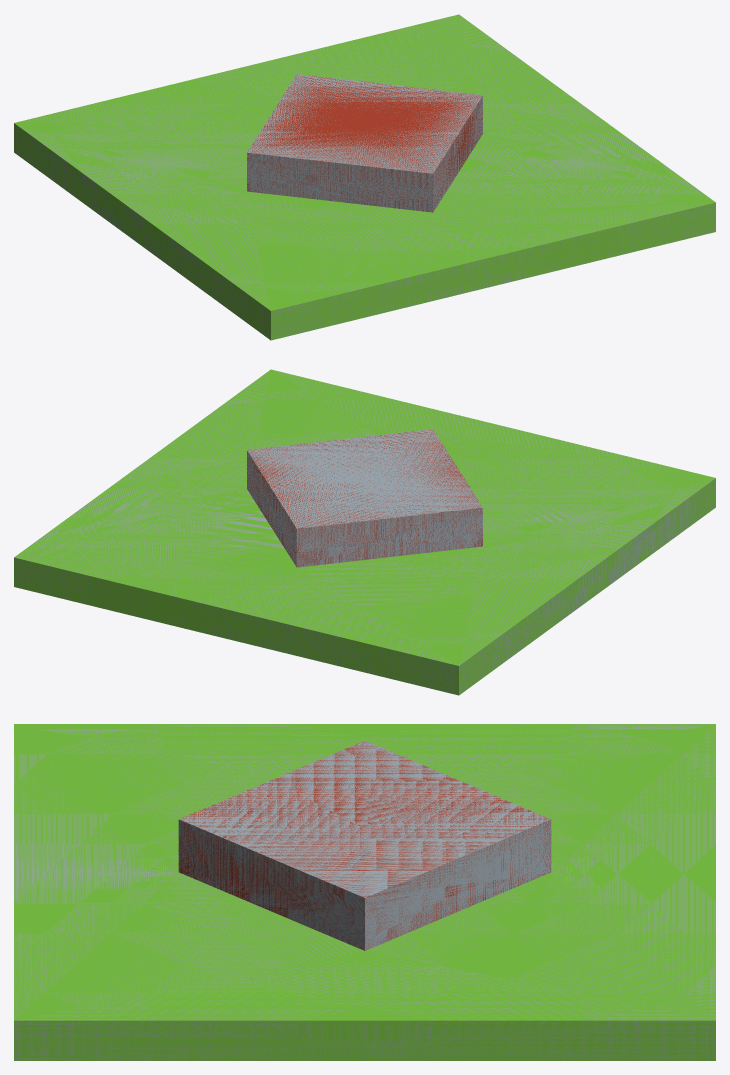
Rendered from Obstacle_diamond_01.obj.
3 renders of one model, top to bottom at view 1: azimuth 30°, elevation 25°; view 2: azimuth 150°, elevation 25°; view 3: azimuth 270°, elevation 25°, orthographic. The views are drawn at different scales.
Visible parts, largest first — view 1: Mesh1 Obstacle_diamond Model; view 2: Mesh1 Obstacle_diamond Model; view 3: Mesh1 Obstacle_diamond Model.
Boxes of the visible parts, box(x1,y1,x2,y2) form: Mesh1 Obstacle_diamond Model: box(14, 14, 715, 340); Mesh1 Obstacle_diamond Model: box(14, 369, 715, 695); Mesh1 Obstacle_diamond Model: box(14, 724, 715, 1060).
Bounding box in the file's own units: 3 × 0.44 × 3.
